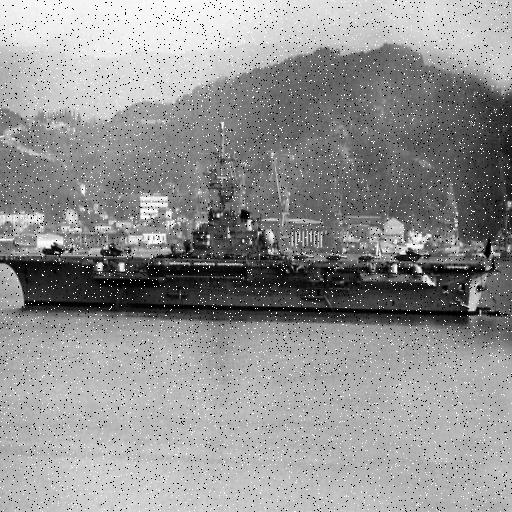Portanaves: (1, 113, 502, 318)
